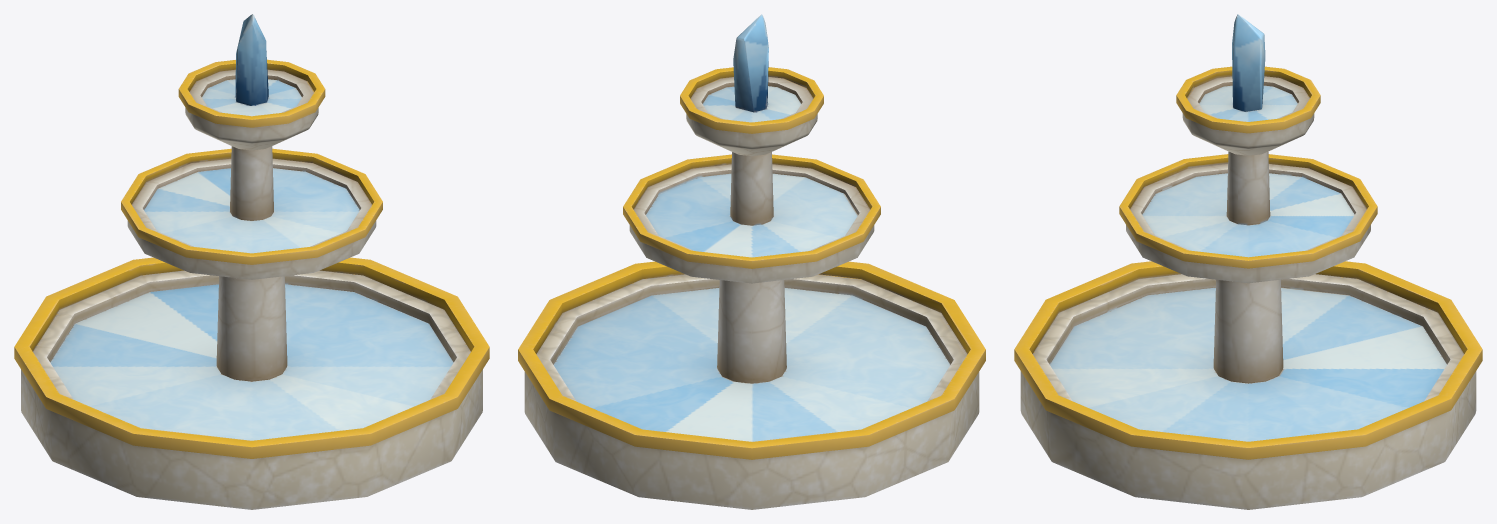
The model's file is Divin_Fontaine.fbx.
The picture shows the model from 3 angles, left to right: view 1: azimuth 30°, elevation 25°; view 2: azimuth 150°, elevation 25°; view 3: azimuth 270°, elevation 25°; orthographic projection.
Visible parts, largest first — view 1: Divin_Fontaine; view 2: Divin_Fontaine; view 3: Divin_Fontaine.
Part boxes in pixels (bbox=[...]): Divin_Fontaine: bbox=[14, 14, 489, 509]; Divin_Fontaine: bbox=[518, 14, 985, 509]; Divin_Fontaine: bbox=[1014, 14, 1482, 509].
Size of the model in its own units: 1070 by 1004 by 1070.
1 material, 1 textured.
